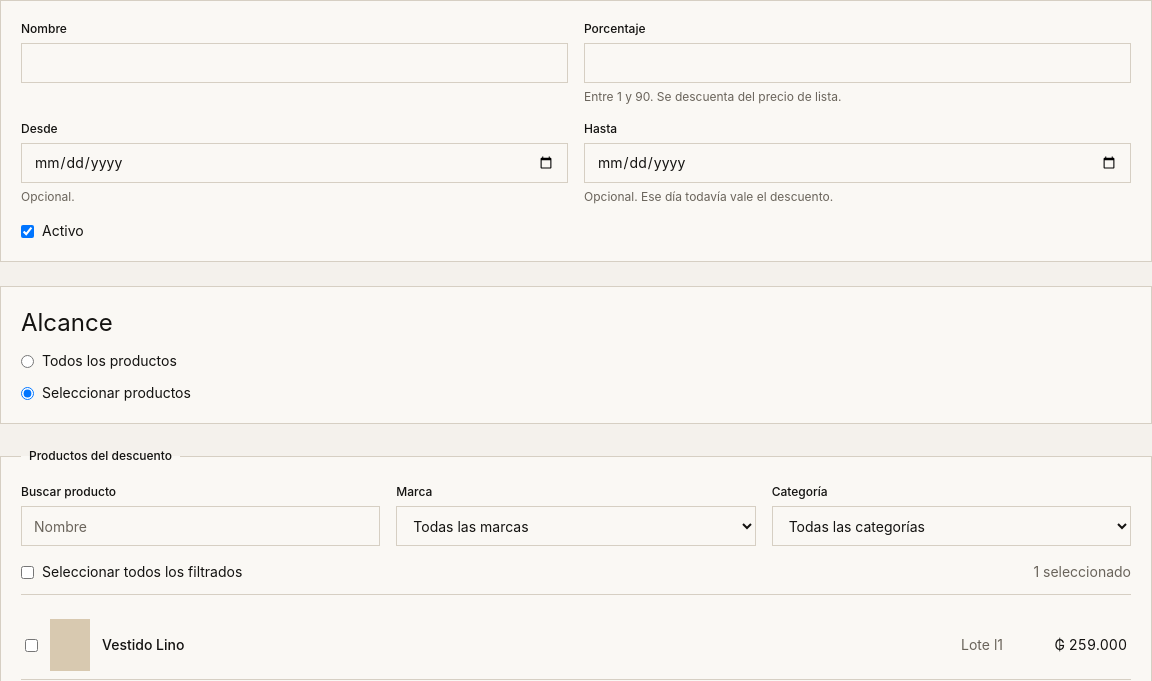
DiscountForm › selects and clears every filtered product, keeping the rest of the selection
Step 1. Type "vestido" into the search field labelled "Buscar producto" → (201,526), box [21,506,380,546]
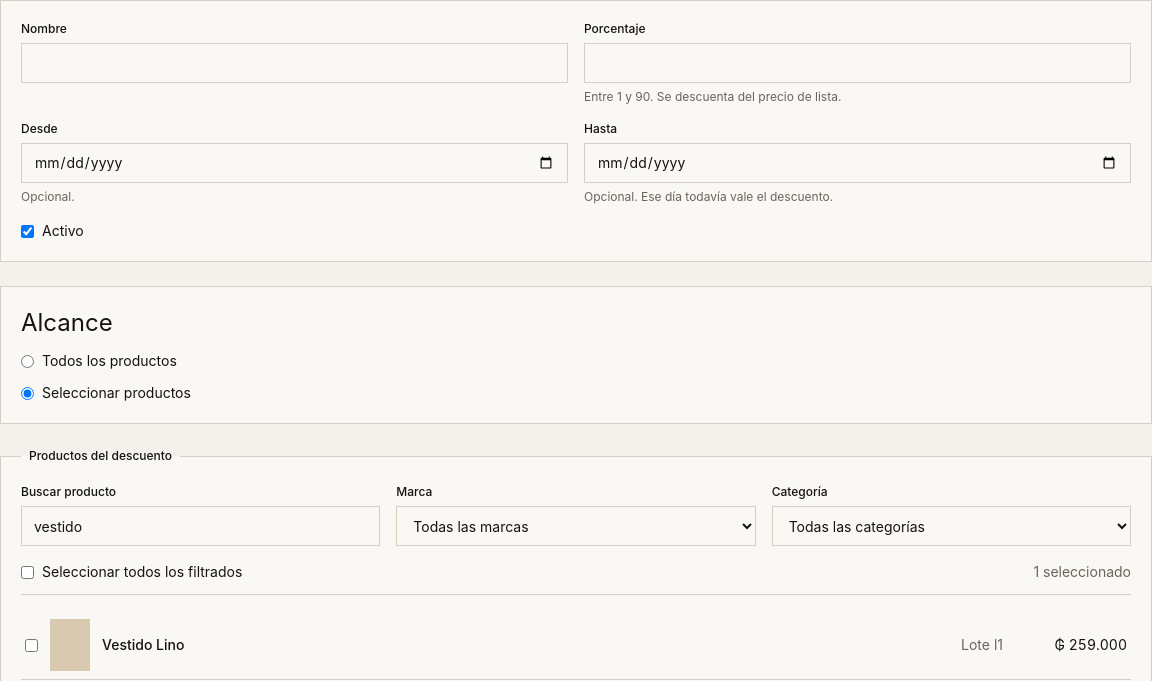
Step 2. Click the checkbox labelled "Seleccionar todos los filtrados" → (28,572), box [21,566,34,578]
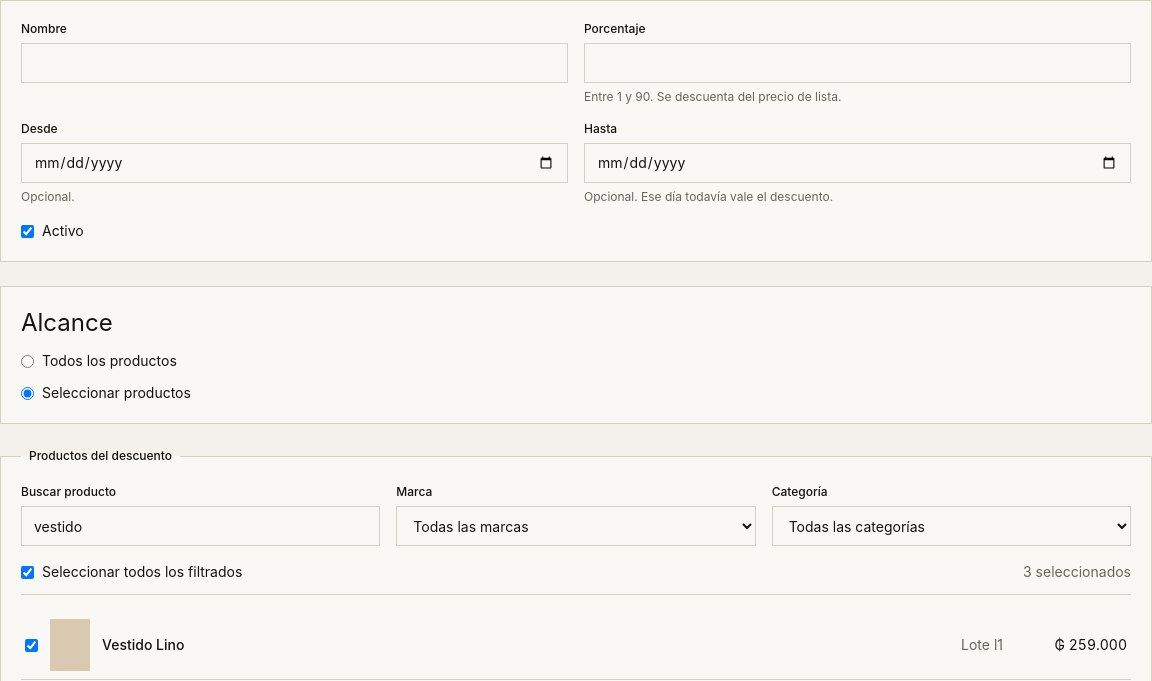
Check: the text "3 seleccionados" is shown, box [1023,562,1131,582]
Step 3. Click the checkbox labelled "Seleccionar todos los filtrados" → (28,572), box [21,566,34,578]
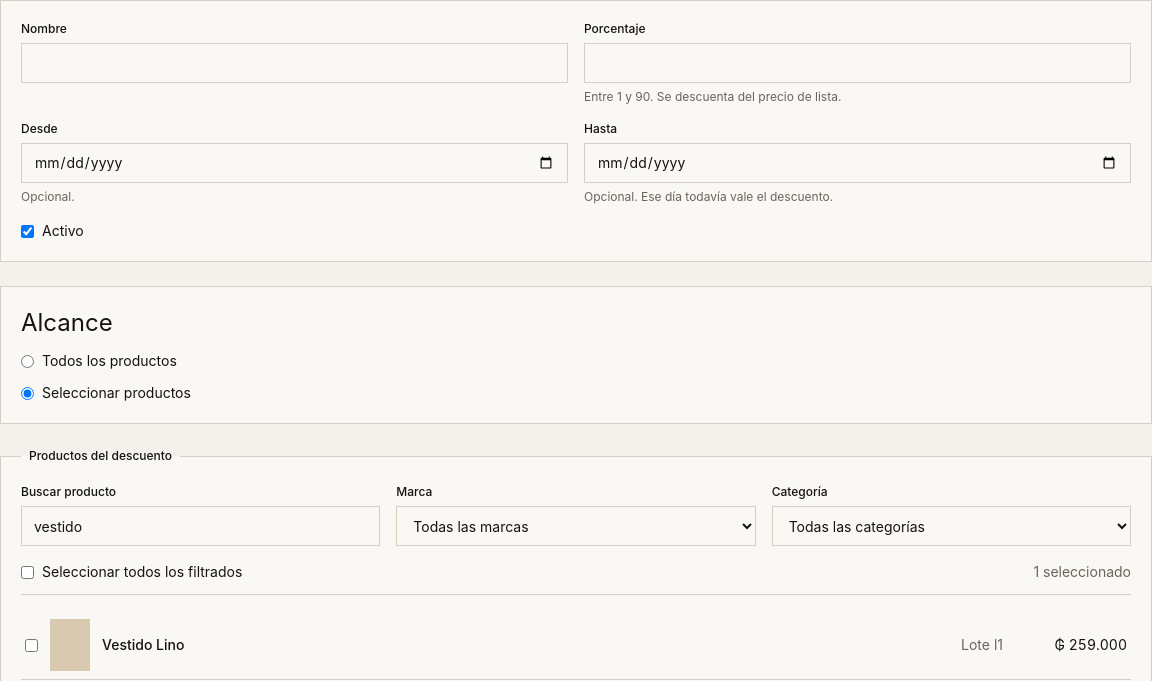
Check: the text "1 seleccionado" is shown, box [1033,562,1131,582]
Step 4. Clear the search field labelled "Buscar producto" → (201,526), box [21,506,380,546]
(page scrolled)
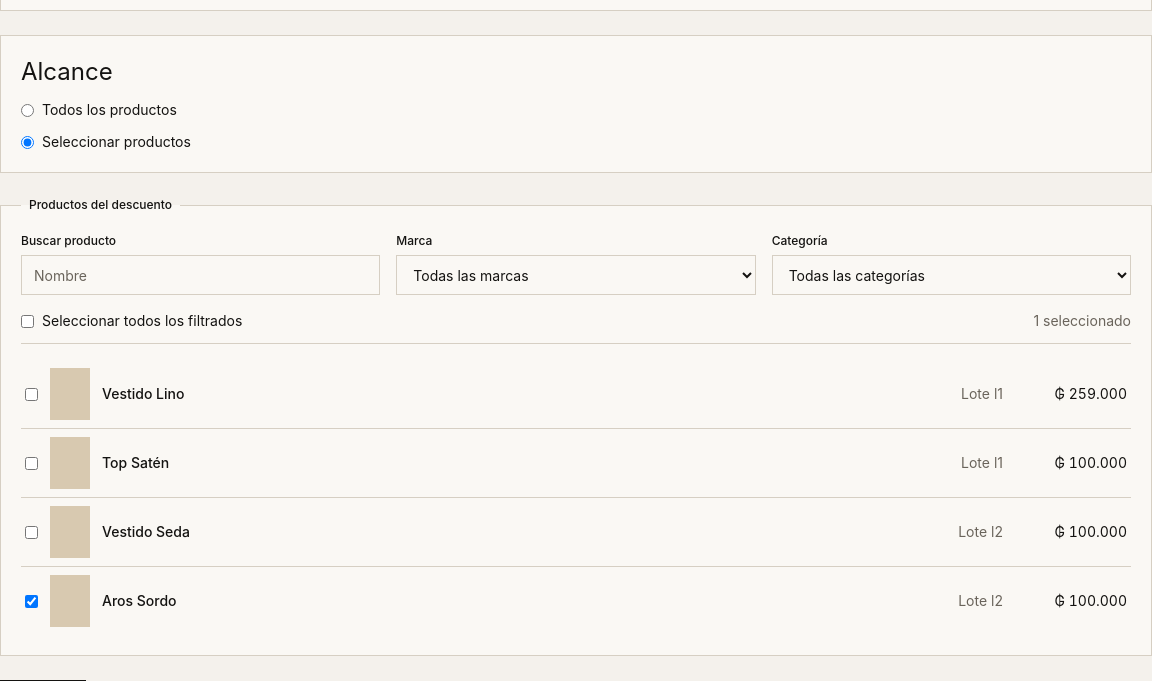
Check: the checkbox labelled "Aros Sordo Lote l2 ₲ 100.000" is checked, box [25,594,38,608]
